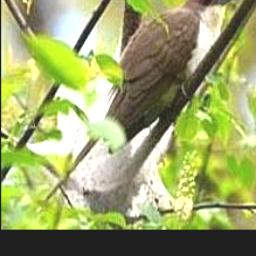Cuckoo: (47, 0, 238, 199)
